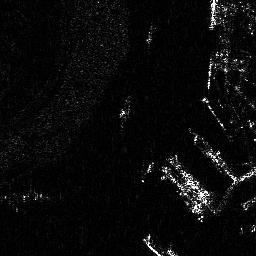ship: (159, 163, 205, 223), (118, 94, 132, 128), (208, 1, 217, 31)
